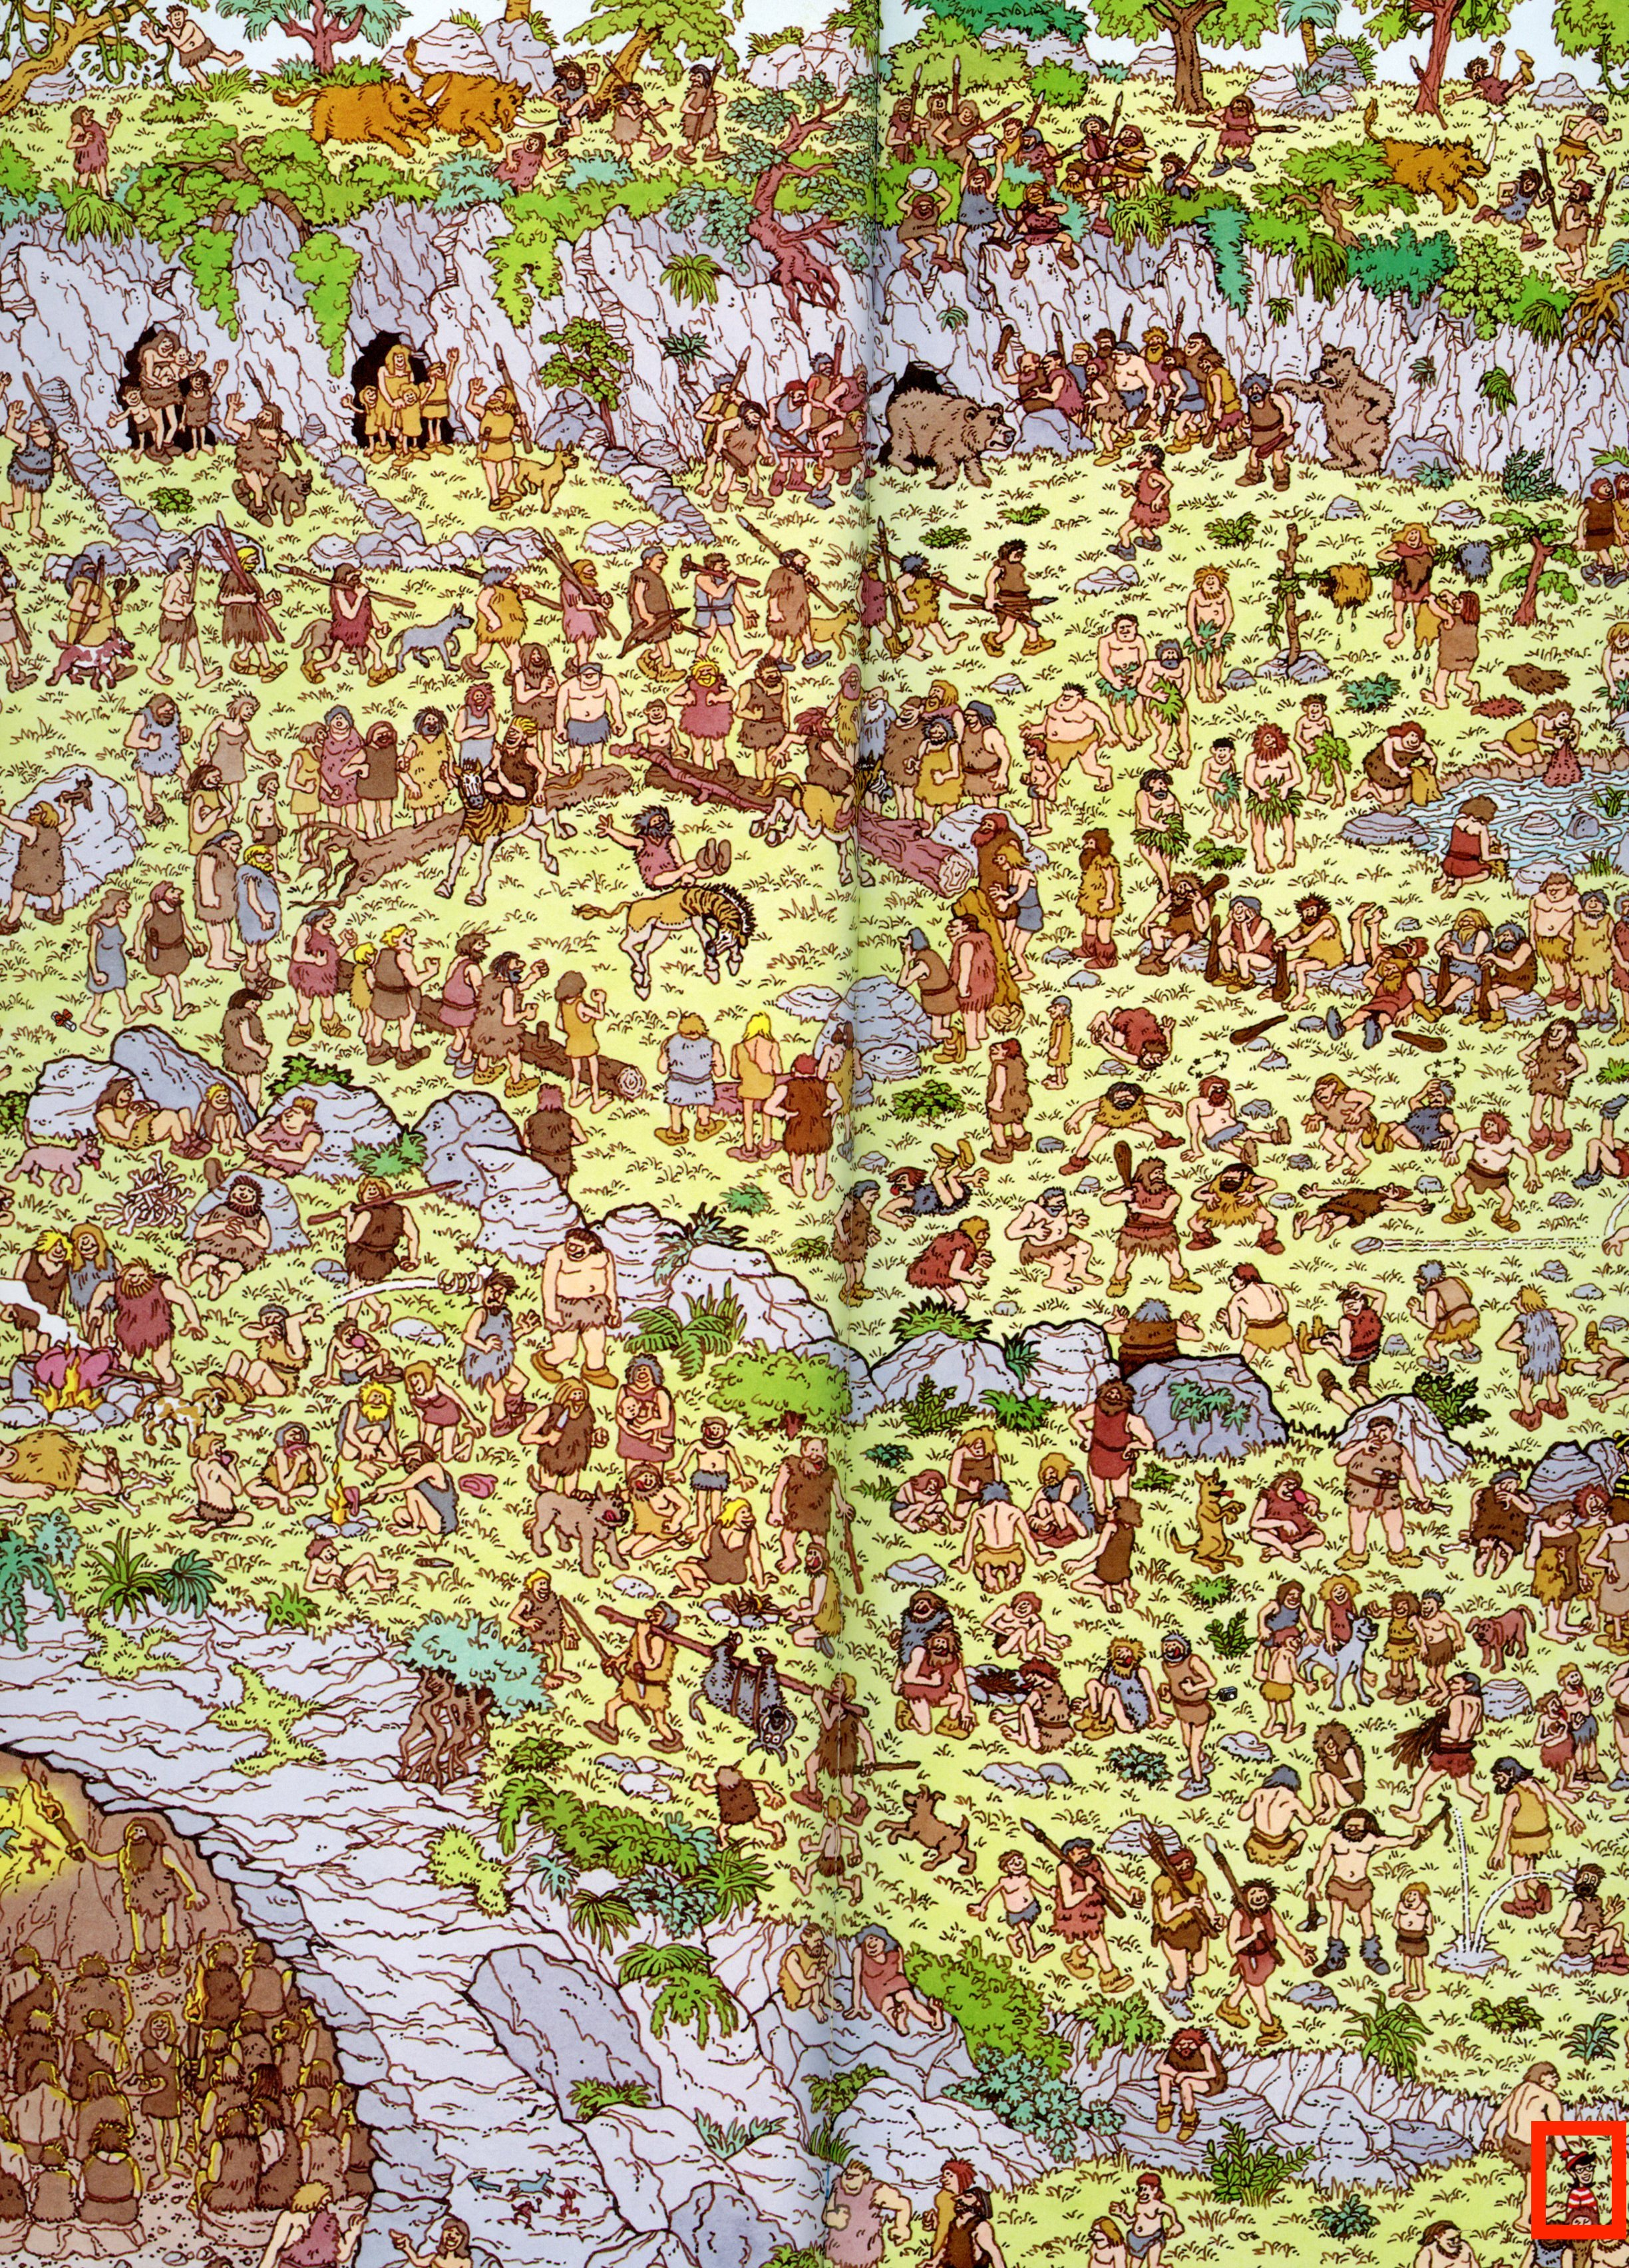wenda: (1543, 2134, 1629, 2257)
